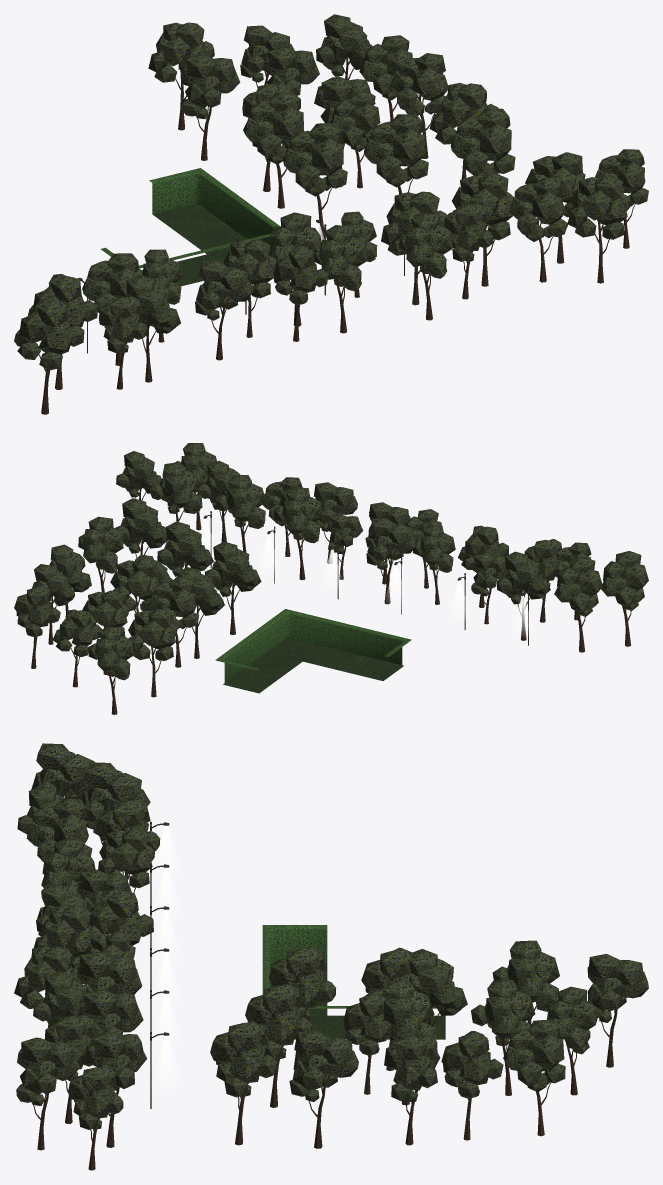
File: Outside.glb
The picture shows the model from 3 angles, top to bottom: view 1: azimuth 30°, elevation 25°; view 2: azimuth 150°, elevation 25°; view 3: azimuth 270°, elevation 25°; orthographic projection. The views are drawn at different scales.
Parts seen in each view (by area): view 1: Tree.001, Tree, Tree.002, Tree.004, Tree.003, Hedge, Grass; view 2: Tree, Tree.001, Tree.002, Tree.004, Tree.003, Hedge, Grass, StreetLight; view 3: Tree, Tree.001, Tree.004, Tree.003, Tree.002, StreetLight, Hedge, Grass.
Boxes of the visible parts, <box> form: Tree.001: <box>14,176,630,414</box>; Tree: <box>28,149,648,389</box>; Tree.002: <box>148,22,347,240</box>; Tree.004: <box>316,14,515,226</box>; Tree.003: <box>240,25,428,194</box>; Hedge: <box>100,168,280,268</box>; Grass: <box>153,204,269,286</box>; Tree: <box>116,451,602,652</box>; Tree.001: <box>175,443,648,646</box>; Tree.002: <box>88,541,261,714</box>; Tree.004: <box>14,498,167,668</box>; Tree.003: <box>52,521,213,687</box>; Hedge: <box>215,609,411,682</box>; Grass: <box>223,638,403,693</box>; StreetLight: <box>200,511,532,645</box>; Tree: <box>68,762,160,1170</box>; Tree.001: <box>14,743,101,1150</box>; Tree.004: <box>210,1019,565,1148</box>; Tree.003: <box>245,979,597,1107</box>; Tree.002: <box>269,940,648,1070</box>; StreetLight: <box>150,821,179,1108</box>; Hedge: <box>262,925,453,1008</box>; Grass: <box>270,962,445,1039</box>.
Bounding box in the file's own units: 52.54 × 8.91 × 41.63.
Materials: 6 (5 with a texture image).
